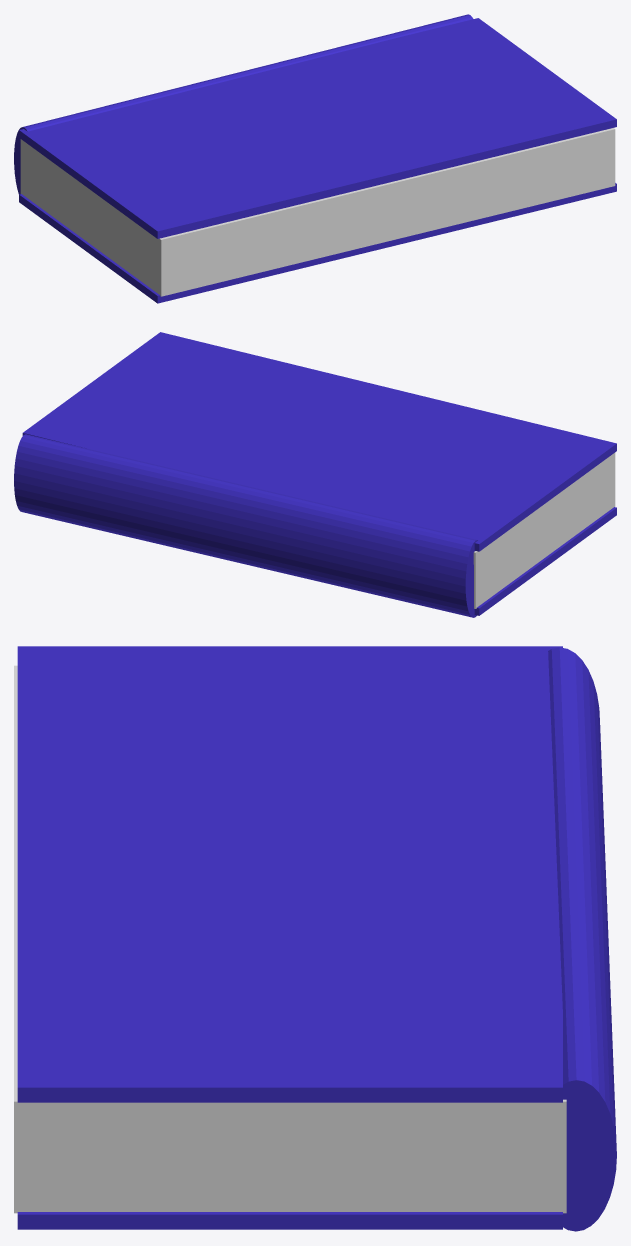
Rendered from book_2.fbx.
3 views of the same model, one above another, from view 1: azimuth 30°, elevation 25°; view 2: azimuth 150°, elevation 25°; view 3: azimuth 270°, elevation 25° (orthographic). The views are drawn at different scales.
Parts seen in each view (by area): view 1: Cube.001, Pages, Cube.002, Cylinder; view 2: Cube.001, Cylinder, Pages, Cube.002; view 3: Cube.001, Pages, Cylinder, Cube.002.
Boxes of the visible parts, left/top/right/bottom form: Cube.001: left=19, top=18, right=616, bottom=238; Pages: left=20, top=128, right=615, bottom=296; Cube.002: left=19, top=183, right=616, bottom=303; Cylinder: left=14, top=14, right=473, bottom=194; Cube.001: left=22, top=332, right=616, bottom=551; Cylinder: left=14, top=434, right=477, bottom=617; Pages: left=473, top=452, right=615, bottom=608; Cube.002: left=474, top=507, right=616, bottom=615; Cube.001: left=17, top=646, right=562, bottom=1102; Pages: left=14, top=665, right=566, bottom=1213; Cylinder: left=548, top=647, right=616, bottom=1231; Cube.002: left=17, top=1212, right=562, bottom=1229.
Size of the model in its own units: 449 by 72.11 by 259.
